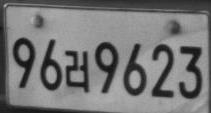2: (151, 43, 174, 98)
3: (178, 45, 203, 99)
6: (122, 43, 147, 96), (39, 39, 63, 91)
9: (94, 40, 119, 93), (11, 36, 36, 87)
러: (64, 49, 89, 92)
